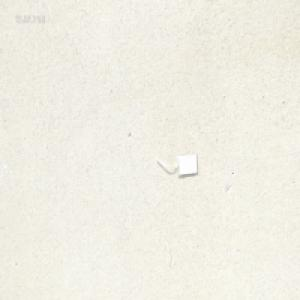LuggageTag: (155, 151, 199, 177)
